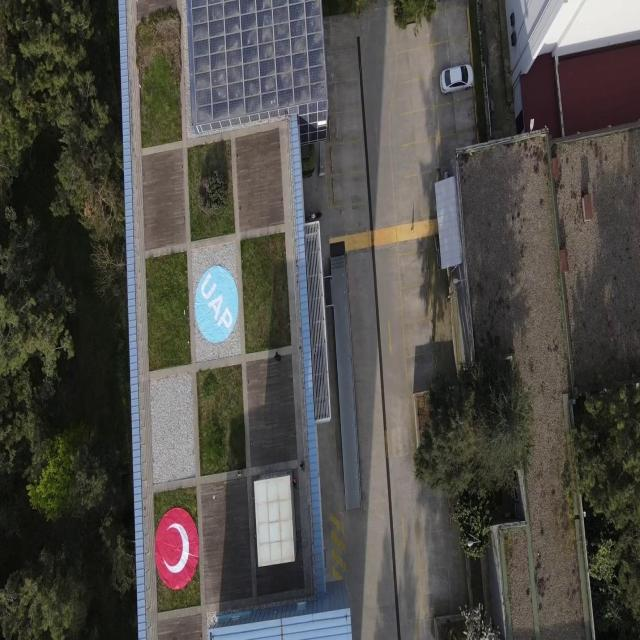p3rson: (274, 351, 281, 362), (300, 461, 306, 472)
